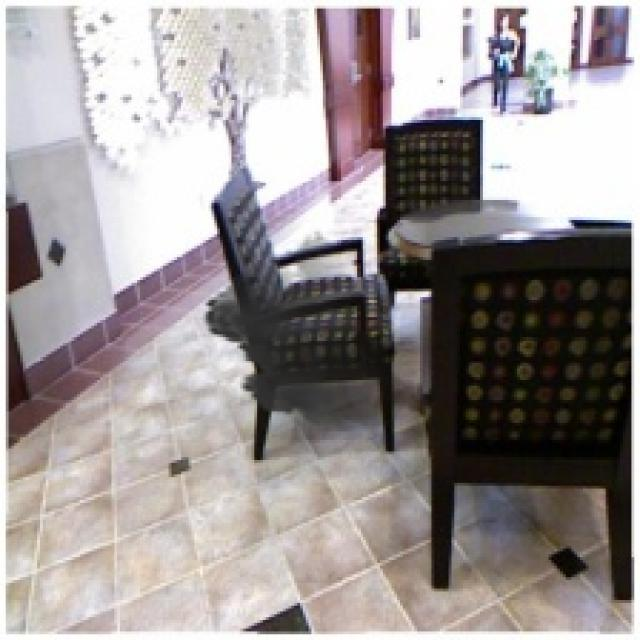smoke: (194, 228, 429, 432)
